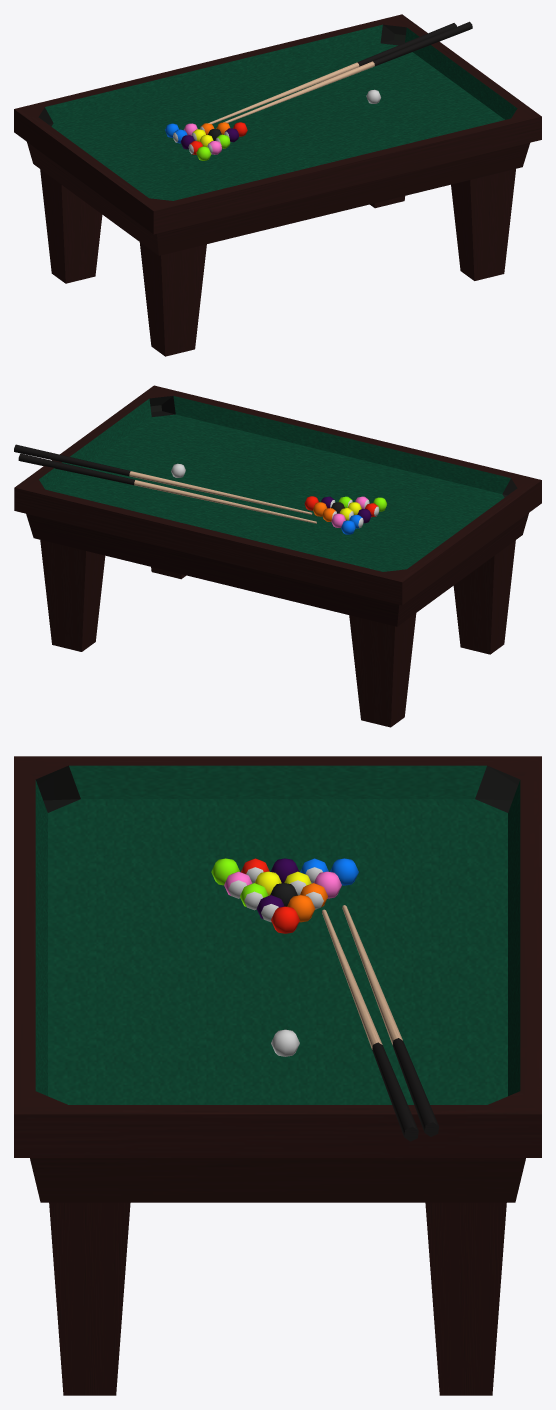
Rendered from Pool_Table.FBX.
3 renders of one model, top to bottom at view 1: azimuth 30°, elevation 25°; view 2: azimuth 150°, elevation 25°; view 3: azimuth 270°, elevation 25°, orthographic. The views are drawn at different scales.
Visible parts, largest first — view 1: Pool_Table; view 2: Pool_Table; view 3: Pool_Table.
Part boxes in pixels (box(x1,y1,x2,y2)): Pool_Table: box(14, 14, 541, 356); Pool_Table: box(14, 385, 541, 727); Pool_Table: box(14, 756, 541, 1395).
Bounding box in the file's own units: 381 × 147 × 218.
